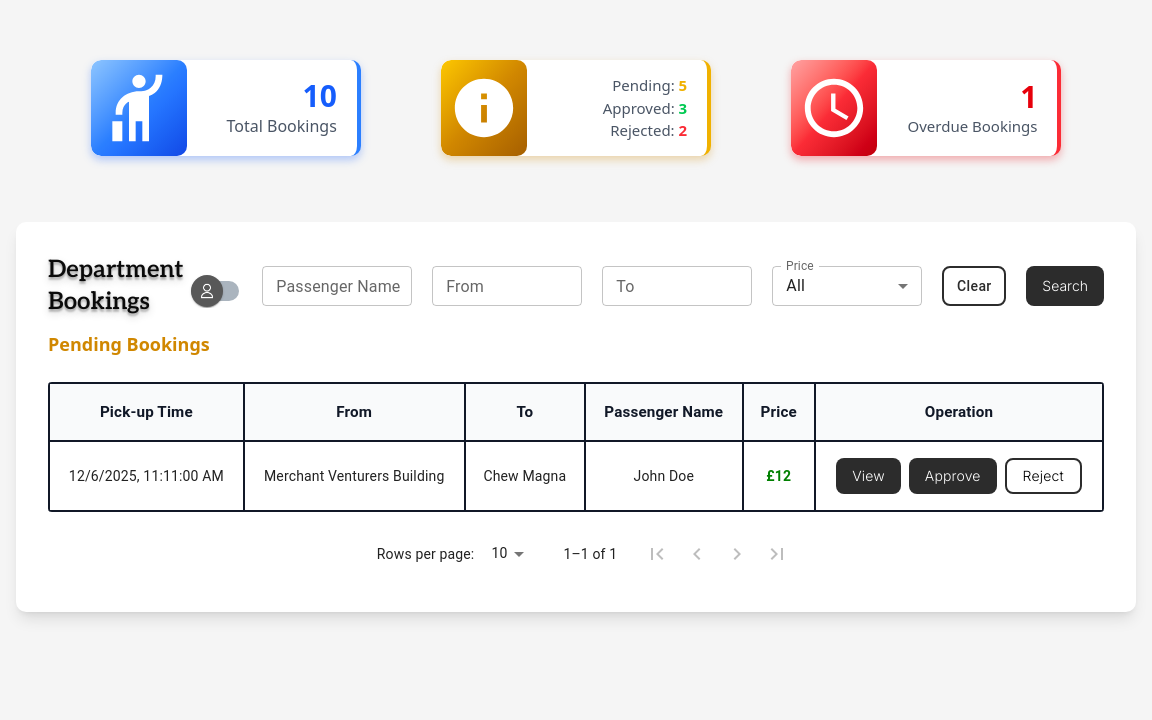
it: Approve and Reject actions › clicking Reject opens confirmation dialog
Click the button "Reject".
click(1043, 476)  # box [1005,458,1082,494]
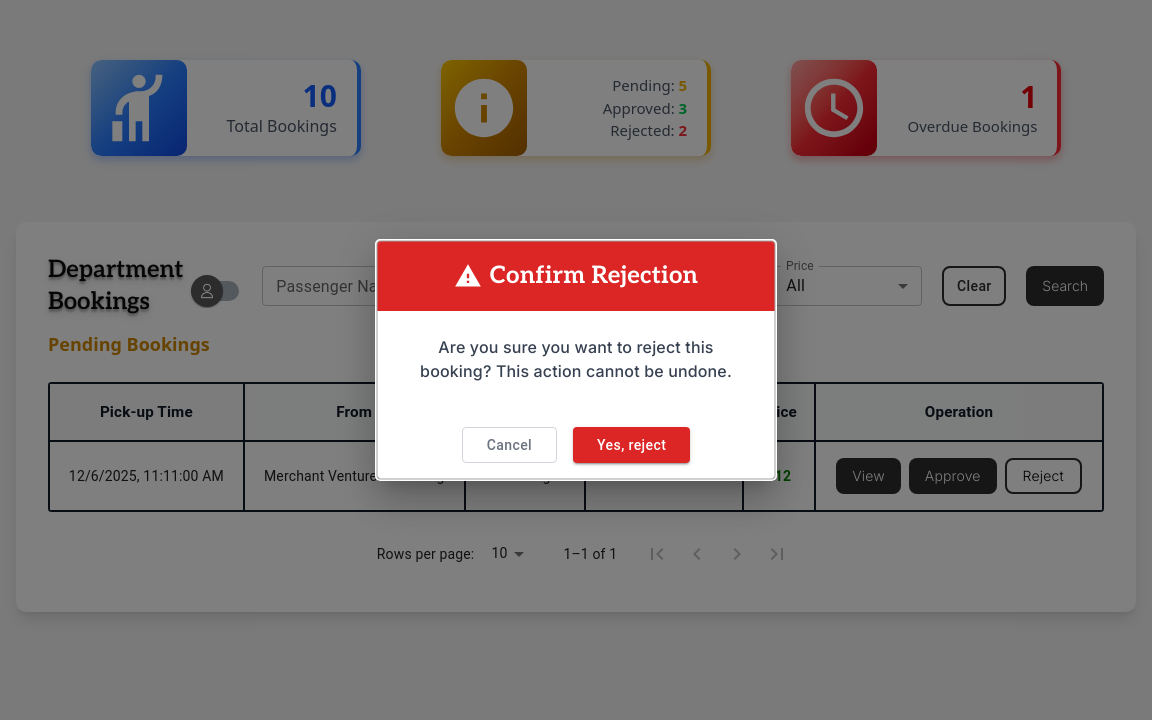
Now the heading "Confirm Rejection" is shown, box [377,240,775,311]
